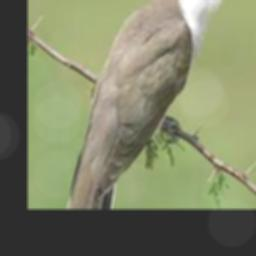Cuckoo: (65, 0, 245, 209)
